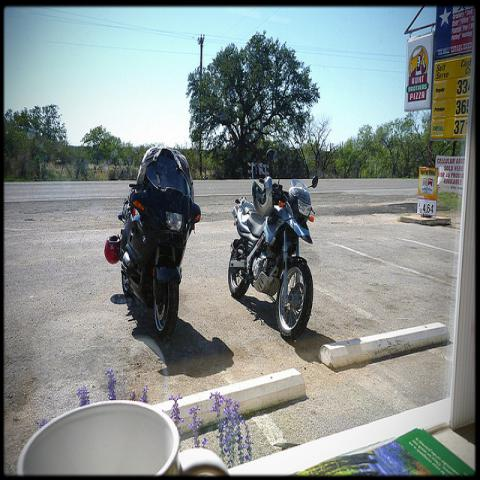motorcycle: (118, 150, 201, 341), (228, 177, 314, 335)
